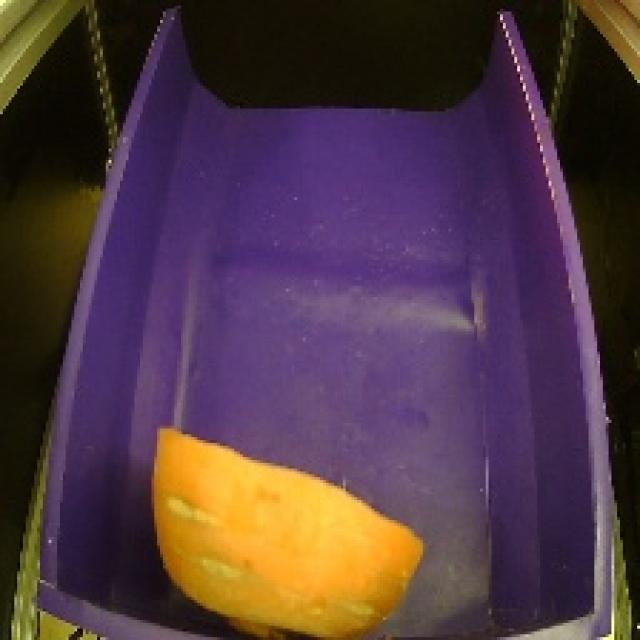carrots: (133, 412, 429, 640)
